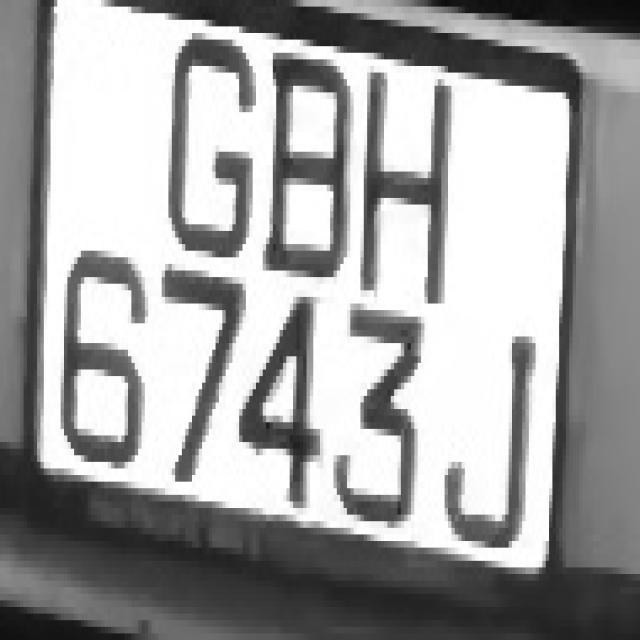3: (334, 271, 421, 554)
4: (226, 277, 330, 541)
6: (57, 211, 148, 495)
7: (152, 238, 242, 508)
B: (260, 33, 350, 317)
G: (162, 0, 259, 284)
H: (357, 33, 465, 303)
J: (442, 303, 542, 561)
